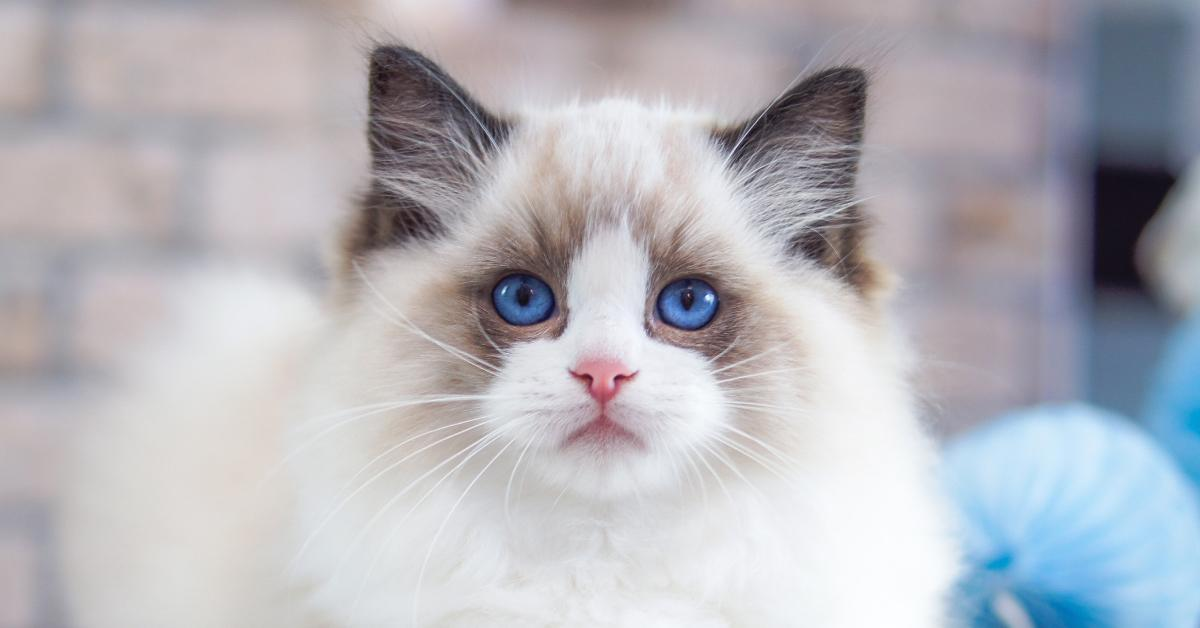ragdoll: (345, 29, 873, 540)
